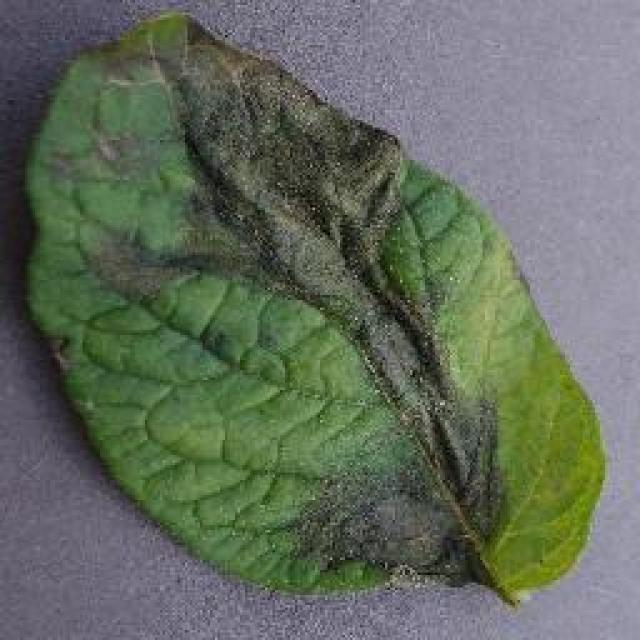late_blight: (18, 5, 608, 607)
